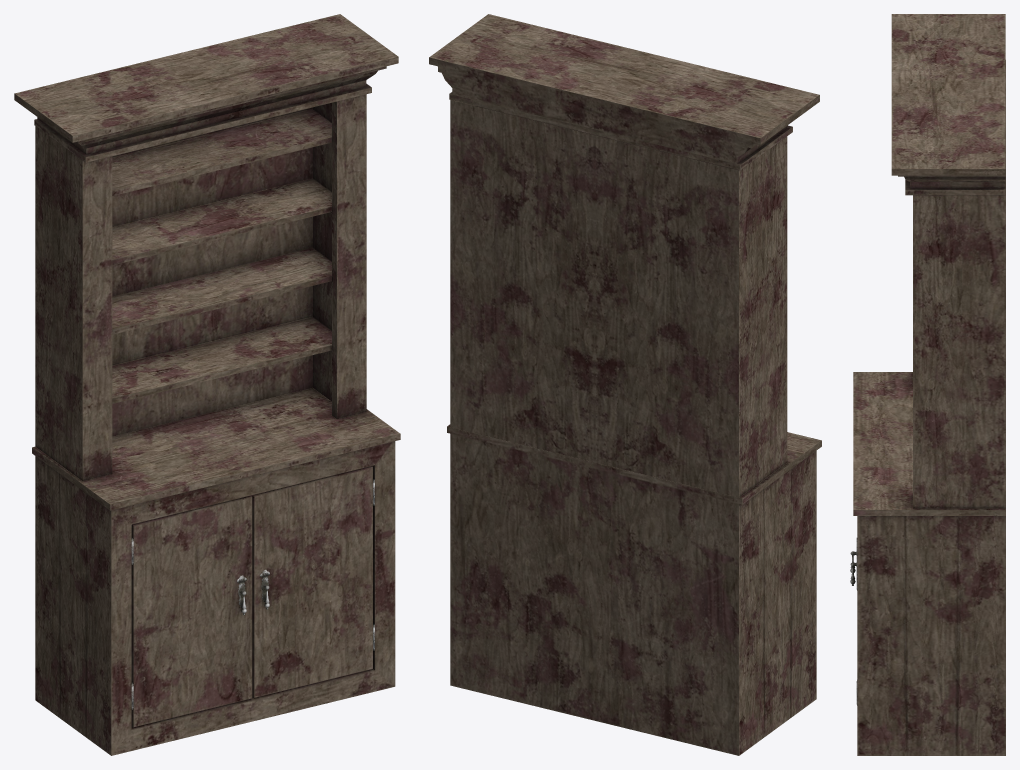
The model's file is cupboard_1.glb.
3 views of the same model, side by side, from view 1: azimuth 30°, elevation 25°; view 2: azimuth 150°, elevation 25°; view 3: azimuth 270°, elevation 25° (orthographic). The views are drawn at different scales.
Parts seen in each view (by area): view 1: Cube, Cube.001, Cube.002, Cube.003, Mueble.002; view 2: Cube.001, Cube, Cube.003; view 3: Cube, Cube.001, Cube.003, Mueble.002.
Boxes of the visible parts, bbox=[...] form: Cube: bbox=[32, 388, 400, 755]; Cube.001: bbox=[35, 94, 366, 480]; Cube.002: bbox=[112, 109, 331, 403]; Cube.003: bbox=[14, 14, 398, 162]; Mueble.002: bbox=[131, 479, 374, 709]; Cube.001: bbox=[450, 100, 787, 497]; Cube: bbox=[447, 424, 821, 755]; Cube.003: bbox=[429, 14, 819, 170]; Cube: bbox=[853, 372, 1005, 755]; Cube.001: bbox=[913, 60, 1005, 508]; Cube.003: bbox=[891, 14, 1005, 195]; Mueble.002: bbox=[850, 538, 857, 705].
Bounding box in the file's own units: 0.6482 × 1.16 × 0.2751.
Materials: 1 (1 with a texture image).
